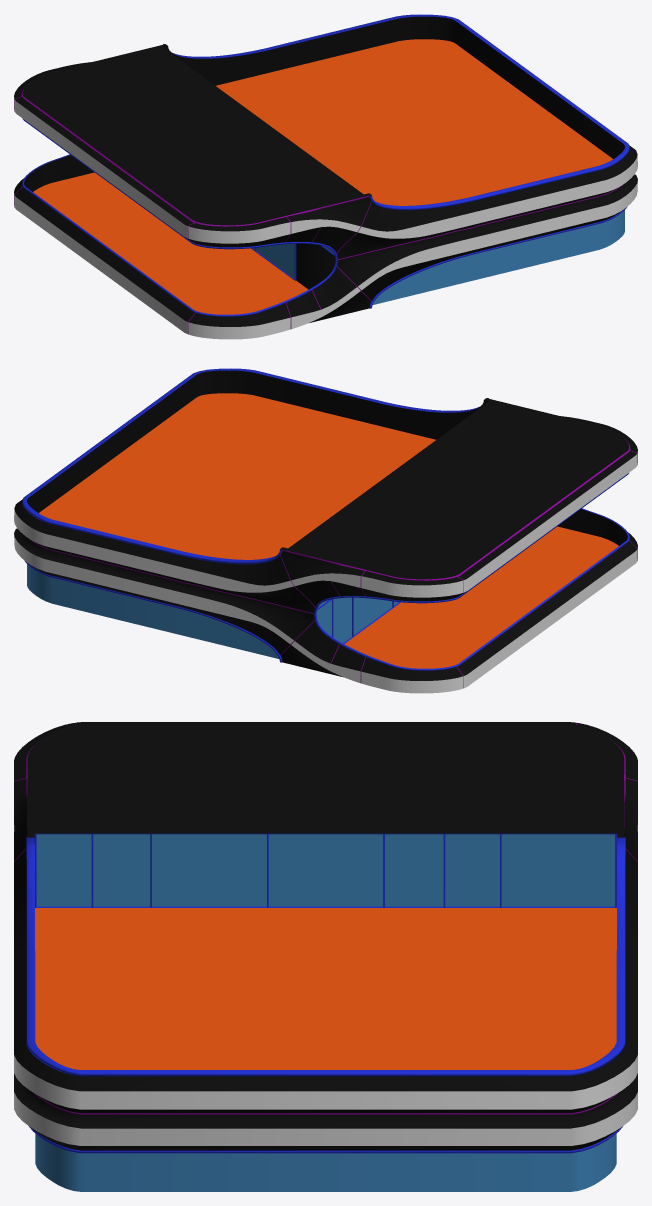
The model's file is SM_Building_MK3_Middle_04.fbx.
The picture shows the model from 3 angles, top to bottom: view 1: azimuth 30°, elevation 25°; view 2: azimuth 150°, elevation 25°; view 3: azimuth 270°, elevation 25°; orthographic projection. The views are drawn at different scales.
Visible parts, largest first — view 1: Middle_04; view 2: Middle_04; view 3: Middle_04.
Boxes of the visible parts, <box> form: Middle_04: <box>14,14,637,339</box>; Middle_04: <box>14,368,637,693</box>; Middle_04: <box>14,722,637,1191</box>.
Bounding box in the file's own units: 2092 × 500 × 1731.
